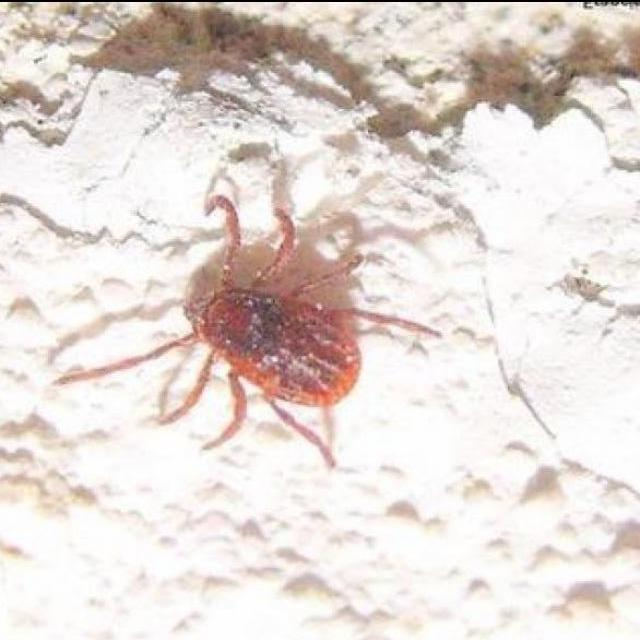Rhipicephalus Sanguineus-F: (52, 157, 364, 468)
